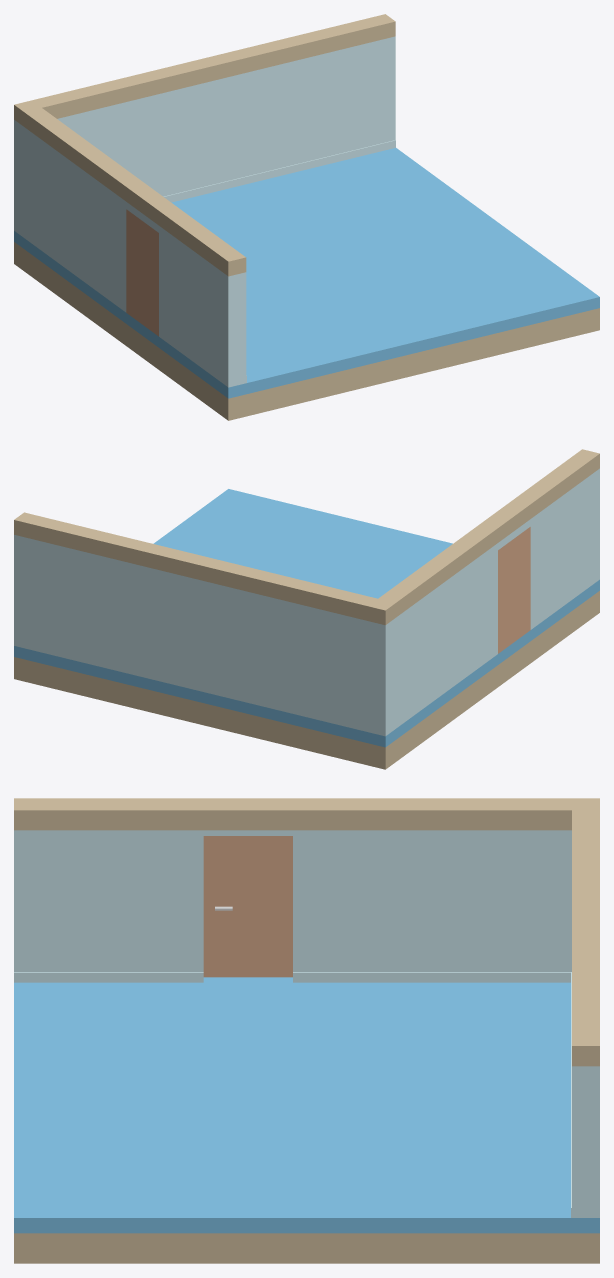
File: room.glb
3 views of the same model, one above another, from view 1: azimuth 30°, elevation 25°; view 2: azimuth 150°, elevation 25°; view 3: azimuth 270°, elevation 25° (orthographic). The views are drawn at different scales.
Visible parts, largest first — view 1: Carpet, Wall, Ceiling, Floor, Door; view 2: Wall, Carpet, Ceiling, Floor, Door; view 3: Carpet, Wall, Ceiling, Floor, Door.
Boxes of the visible parts, bbox=[...] form: Carpet: bbox=[14, 148, 599, 398]; Wall: bbox=[14, 36, 395, 387]; Ceiling: bbox=[14, 14, 395, 276]; Floor: bbox=[14, 242, 599, 420]; Door: bbox=[126, 209, 158, 336]; Wall: bbox=[14, 468, 599, 736]; Carpet: bbox=[14, 489, 599, 747]; Ceiling: bbox=[14, 449, 599, 625]; Floor: bbox=[14, 591, 599, 769]; Door: bbox=[498, 527, 530, 653]; Carpet: bbox=[14, 977, 599, 1233]; Wall: bbox=[14, 830, 599, 1217]; Ceiling: bbox=[14, 798, 599, 1066]; Floor: bbox=[14, 1233, 599, 1263]; Door: bbox=[203, 836, 292, 977].
Size of the model in its own units: 5.25 by 2.15 by 5.25.
